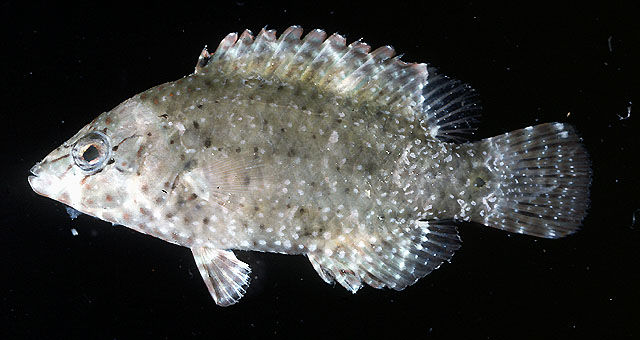fish: (29, 25, 592, 307)
